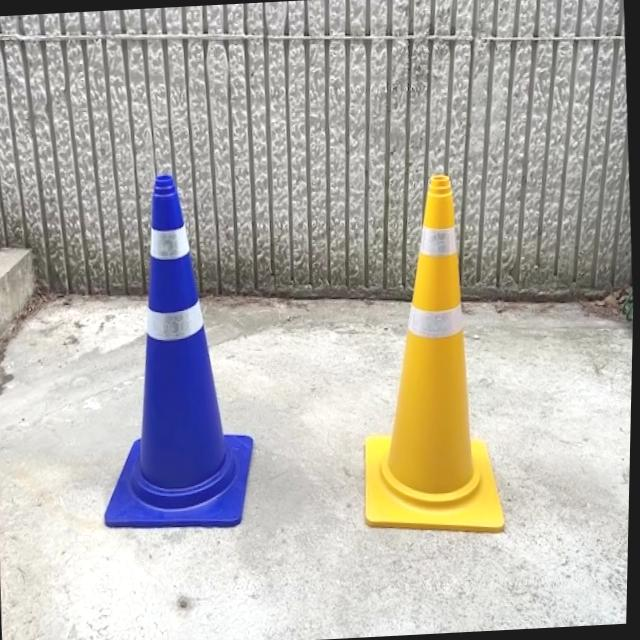b_rub: (107, 176, 254, 522)
y_rub: (368, 176, 506, 527)
